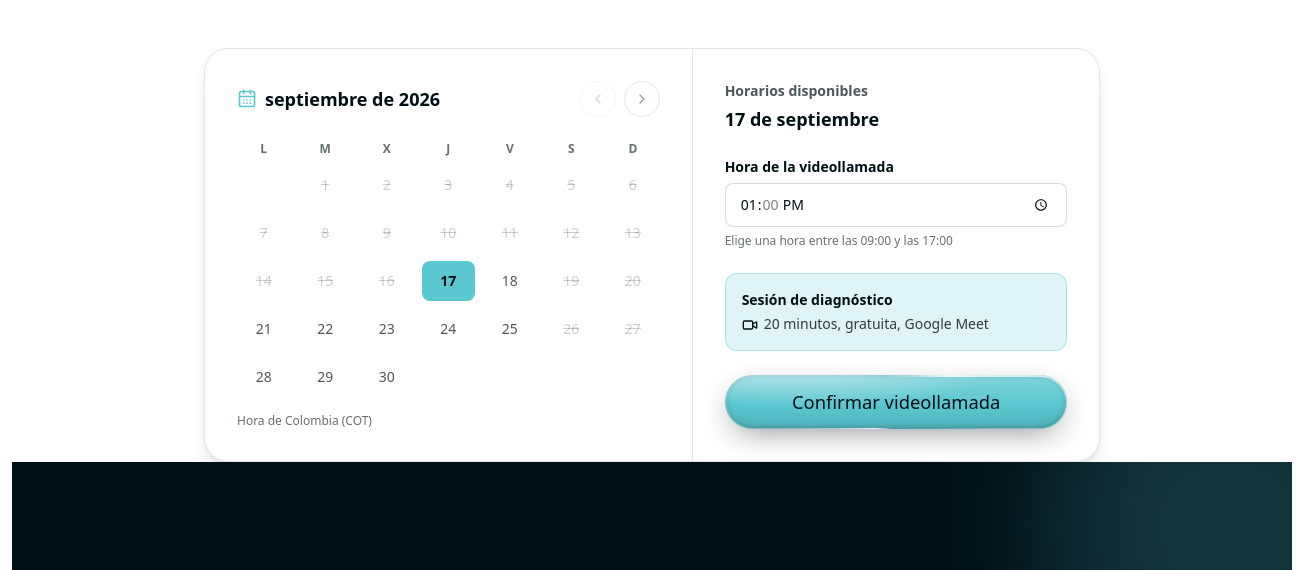
booking flow › rejects a time outside the 09:00-17:00 range
The image size is (1304, 570).
Step 1. Replace the text in the time field labelled "Hora de la videollamada" with "18:00" → (896, 205), box [725,183,1067,227]
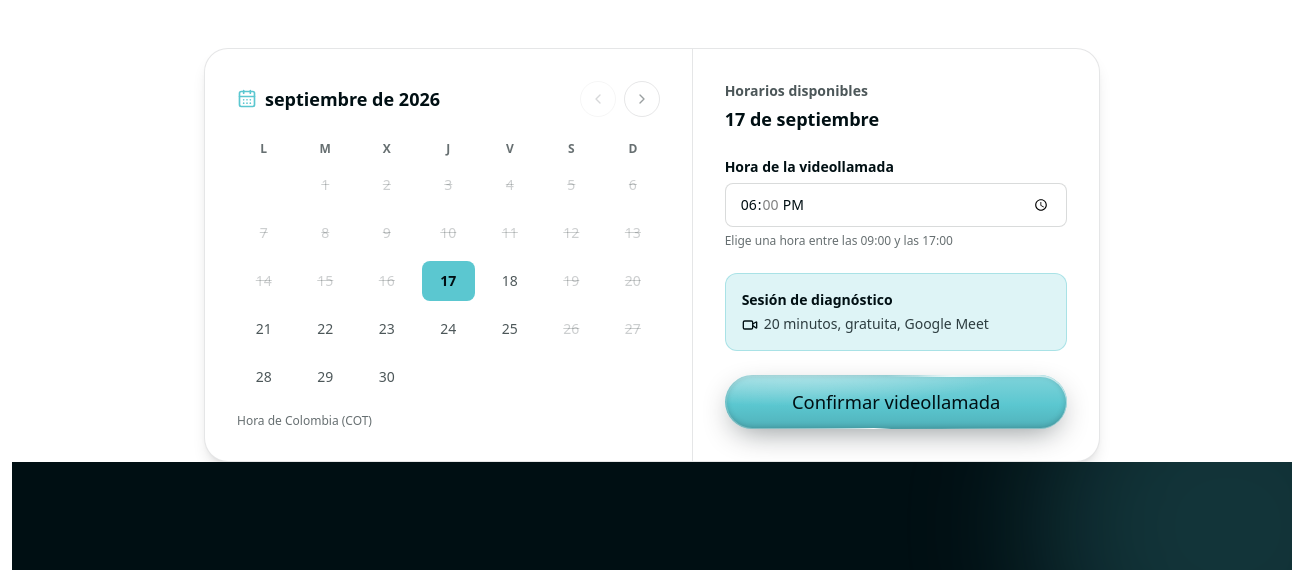
Step 2. Click the button "Confirmar videollamada" → (896, 402), box [725,375,1067,429]
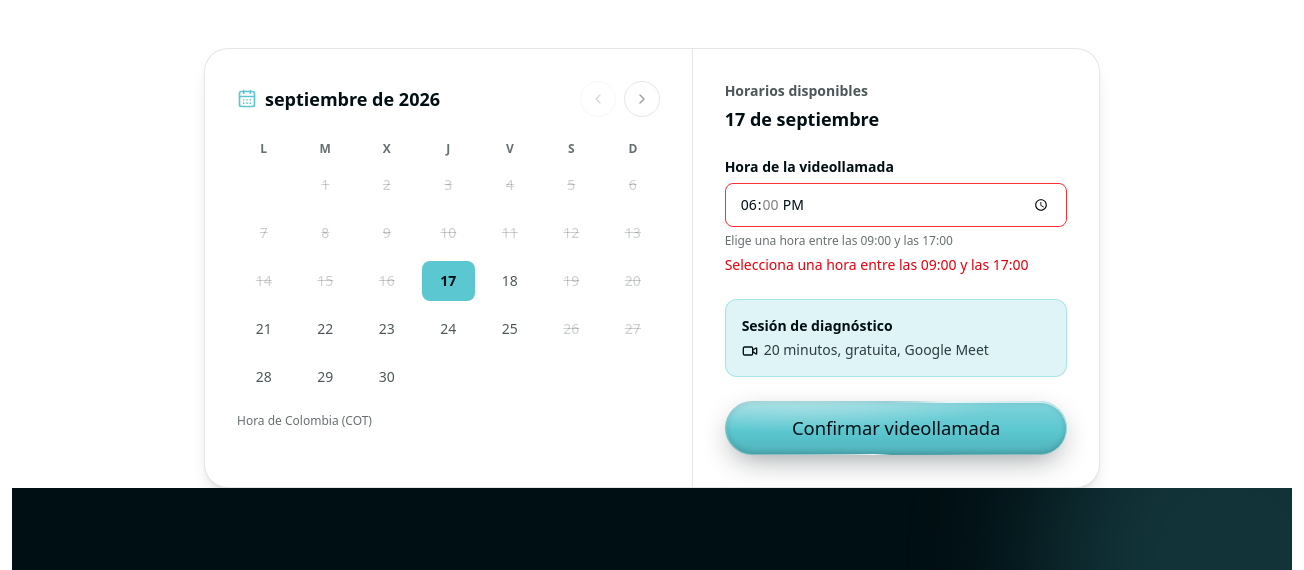
expect the text "Selecciona una hora entre las 09:00 y las 17:00" is shown: met, box [725,255,1067,275]
